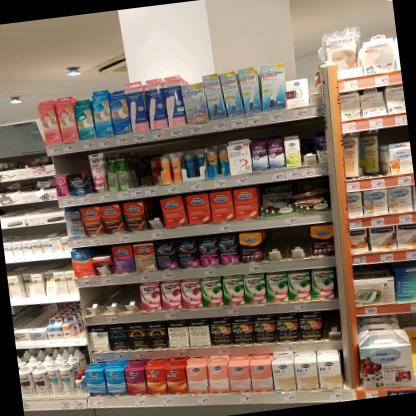empty_space: (284, 223, 312, 259), (125, 143, 147, 188), (261, 226, 288, 262), (299, 117, 318, 166), (304, 59, 324, 105), (78, 285, 103, 317), (118, 282, 142, 313), (143, 195, 163, 230), (321, 308, 342, 341), (100, 284, 122, 315), (27, 199, 63, 215), (0, 202, 28, 218)
